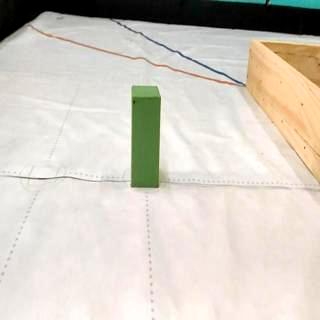greenbox: (130, 84, 162, 188)
